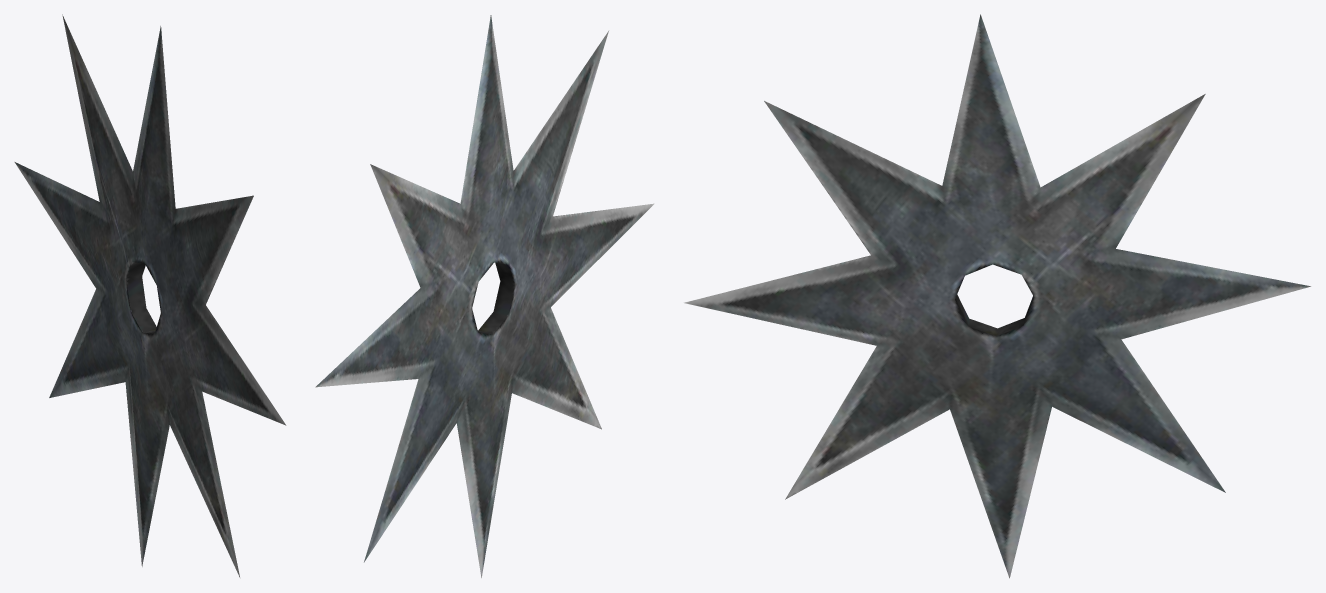
3 views of the same model, side by side, from view 1: azimuth 30°, elevation 25°; view 2: azimuth 150°, elevation 25°; view 3: azimuth 270°, elevation 25° (orthographic). The views are drawn at different scales.
Visible parts, largest first — view 1: sm_0; view 2: sm_0; view 3: sm_0.
Boxes of the visible parts, bbox=[...] form: sm_0: bbox=[14, 14, 286, 577]; sm_0: bbox=[315, 15, 654, 577]; sm_0: bbox=[684, 14, 1310, 578].
Size of the model in its own units: 7.99 by 127 by 127.
1 material, 1 textured.
